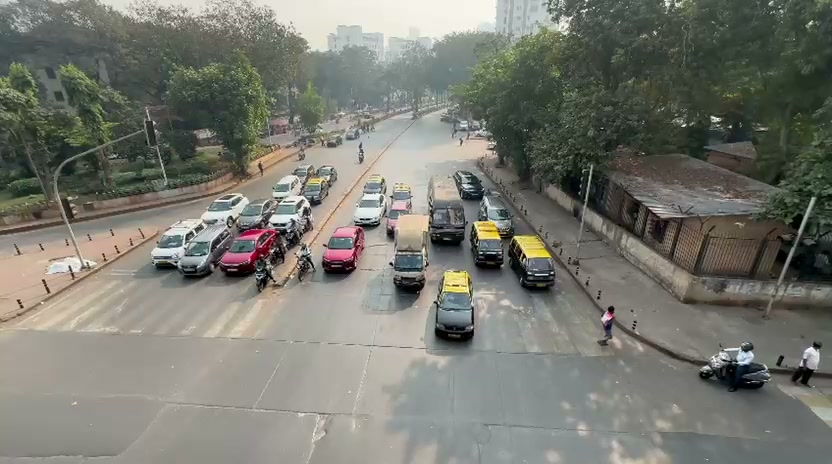car: (217, 227, 287, 276), (434, 269, 477, 341), (177, 226, 234, 277), (508, 235, 556, 289), (151, 222, 205, 269), (321, 225, 366, 274), (267, 197, 313, 239), (470, 219, 505, 268), (177, 239, 218, 278), (203, 193, 249, 227), (476, 200, 515, 238), (234, 198, 278, 230), (352, 196, 384, 228), (452, 170, 484, 200)
motorcycle: (699, 349, 771, 391), (296, 244, 315, 283), (254, 257, 272, 292)
pedestrian: (791, 341, 822, 386), (601, 306, 616, 342), (357, 142, 365, 164)
truck: (391, 213, 432, 290), (507, 234, 556, 289), (428, 178, 467, 244), (470, 219, 505, 268)
